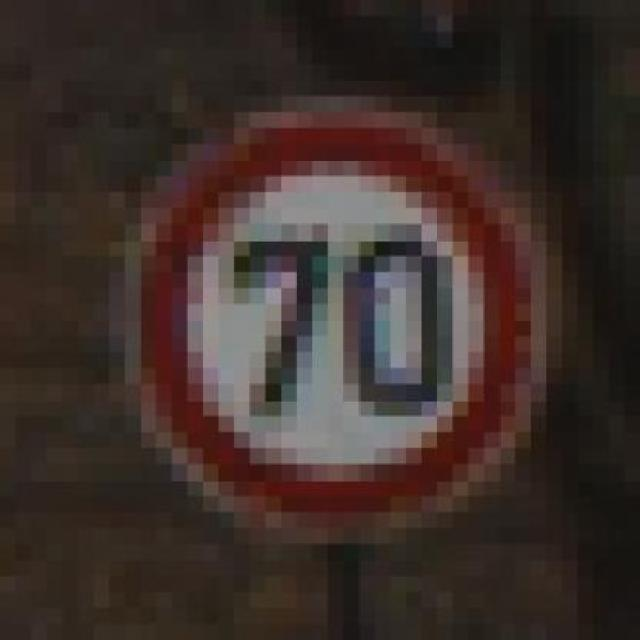forb_speed_over_70: (135, 108, 532, 524)
